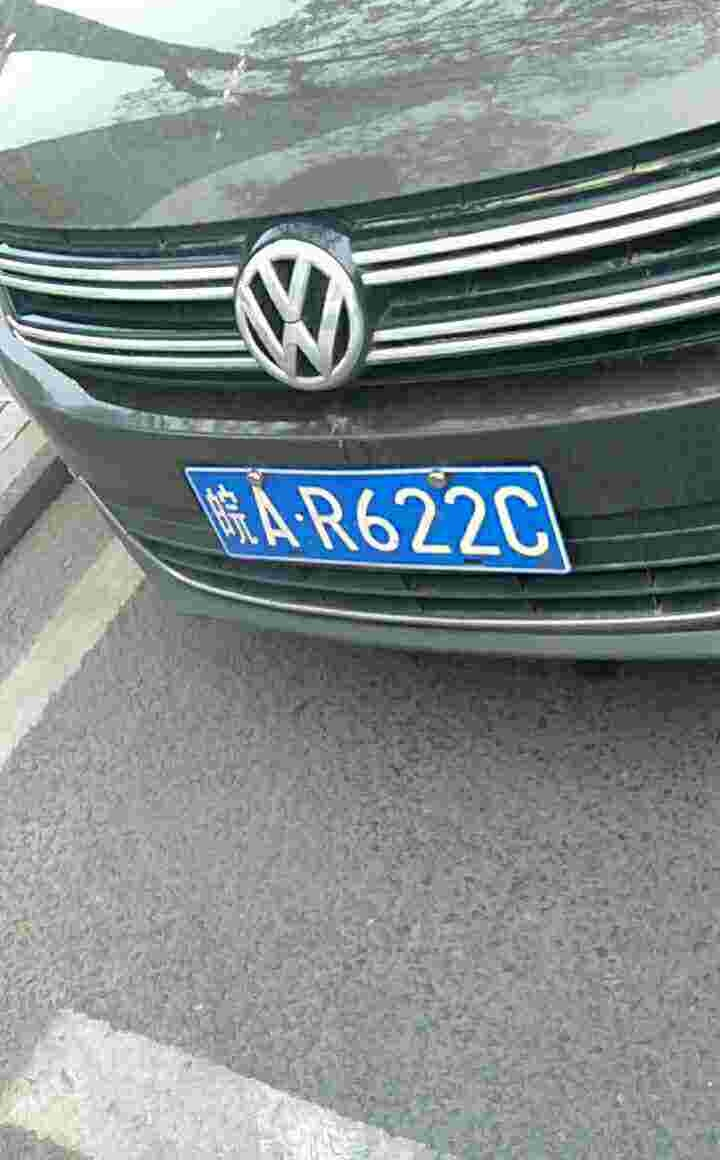license_plate: (201, 477, 564, 574)
